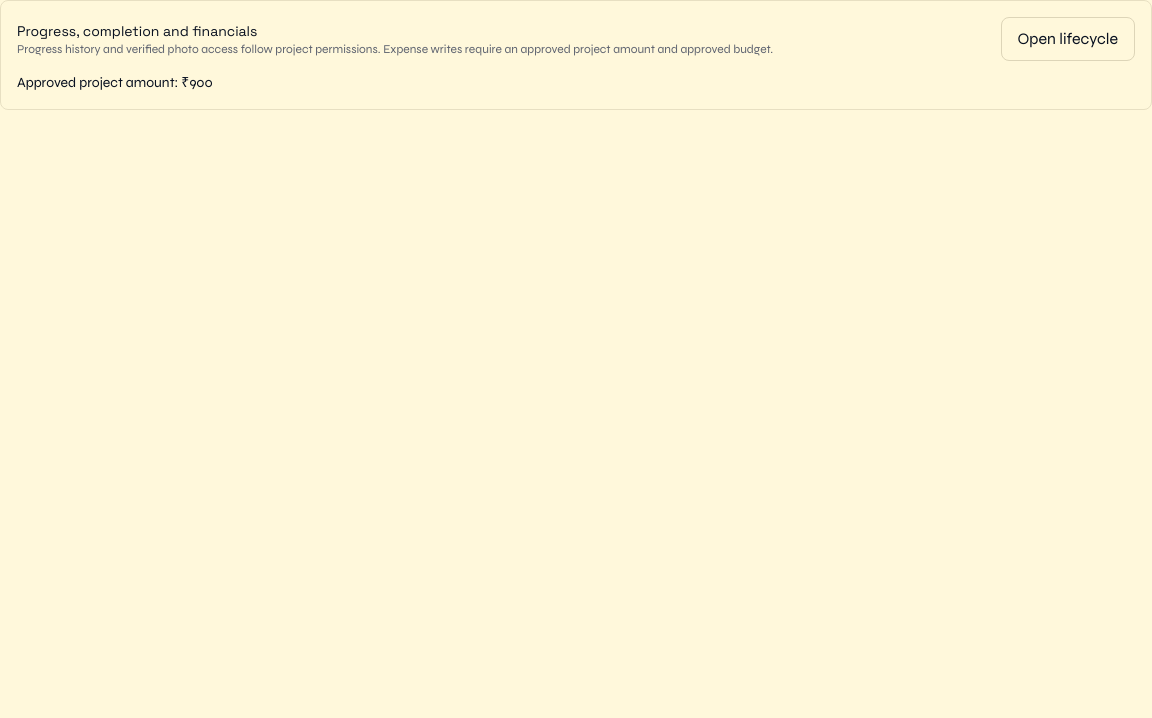
Test case: ProjectLifecyclePanel › shows progress and financial controls to the manager with backend totals
The width and height of the screenshot is (1152, 718).
Step 1. Click the button "Open lifecycle" → [1068, 39], box [1000,17,1135,61]
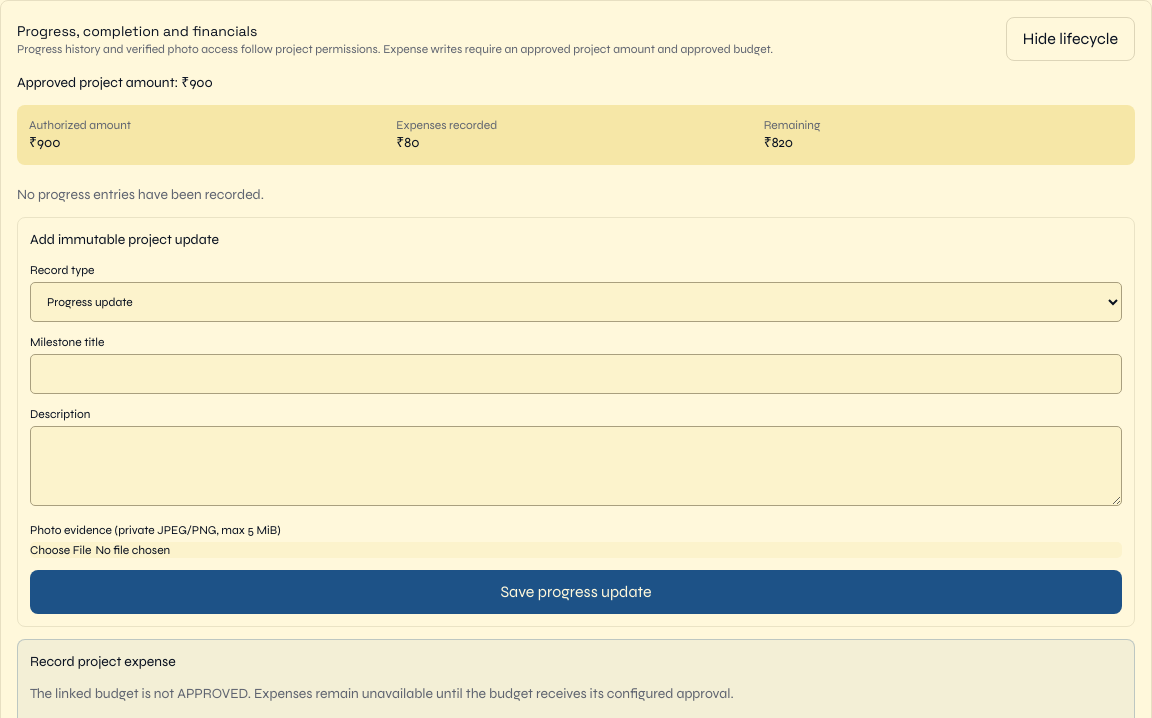
expect the text "₹820" is shown: met, box [764,134,793,151]
expect the text "Record project expense" is shown: met, box [30,653,176,670]
expect the text "Add immutable project update" is shown: met, box [30,231,219,248]
